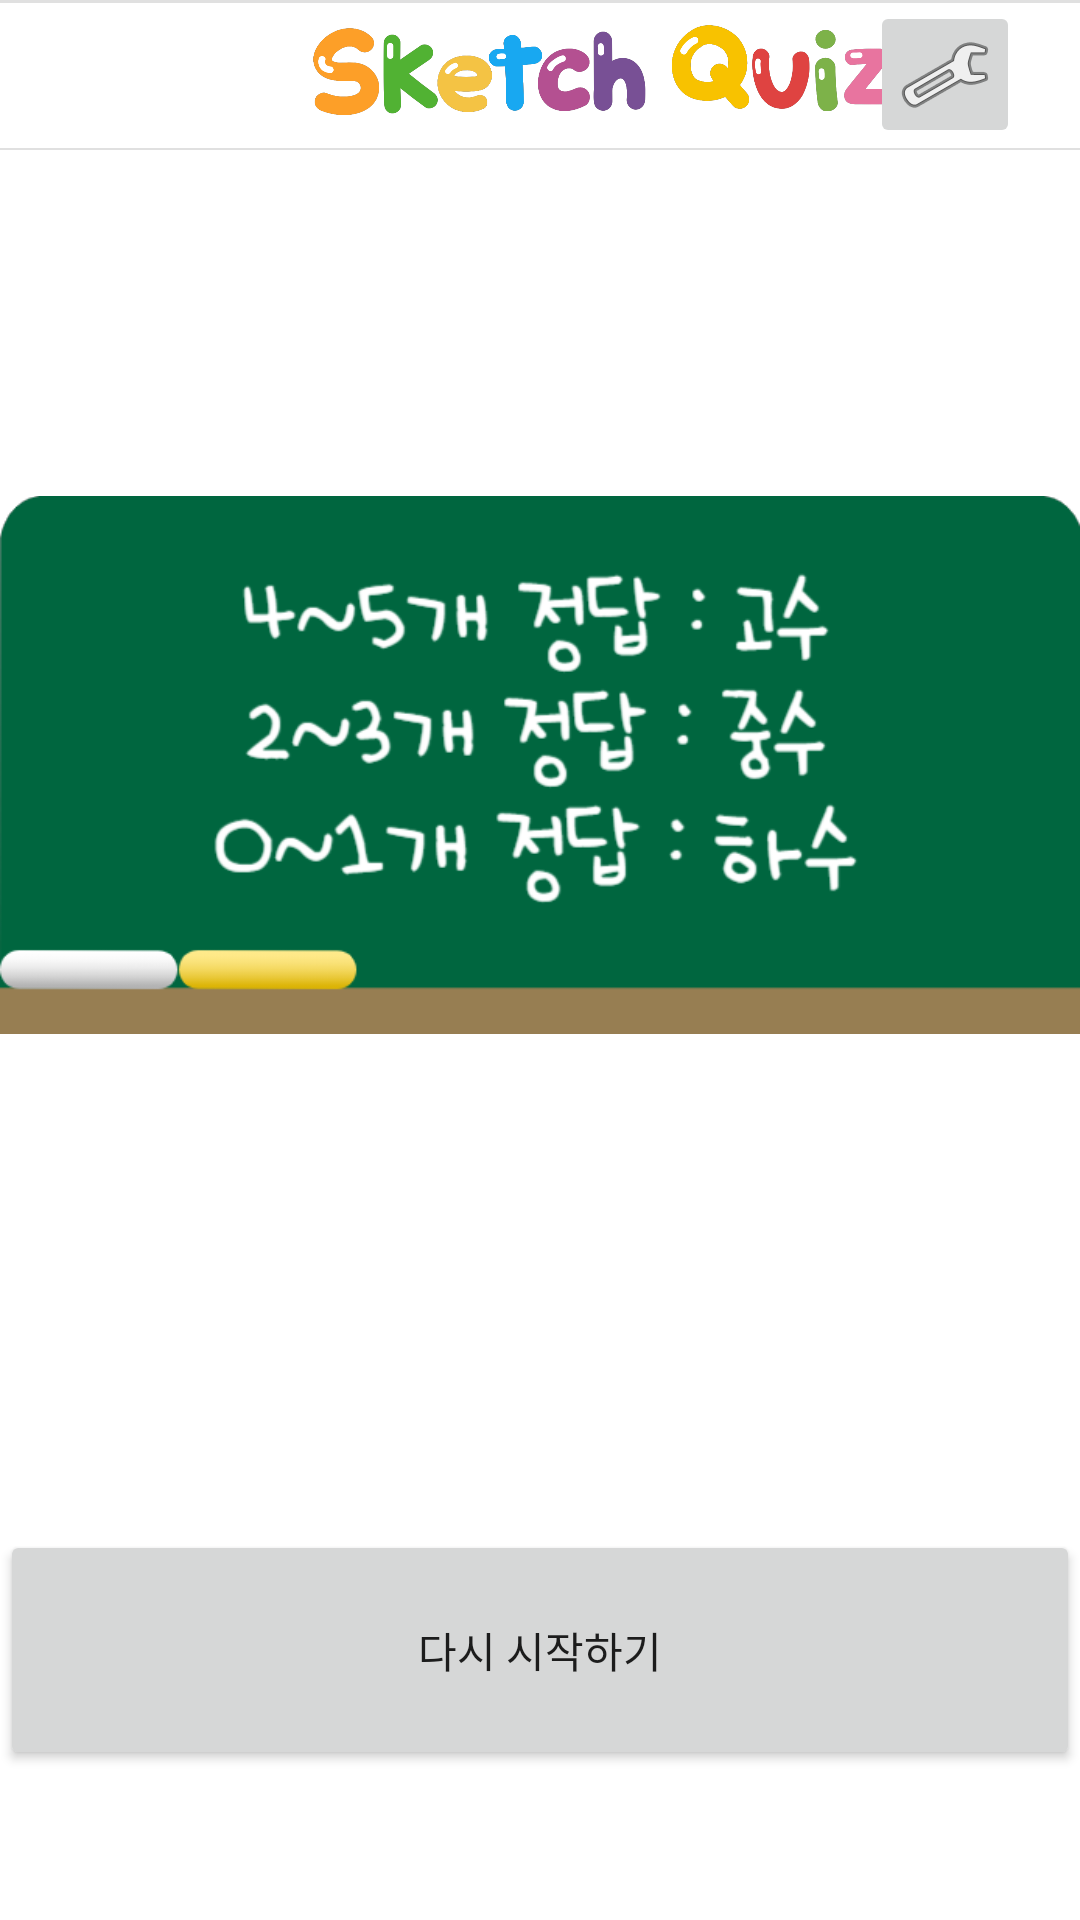

Where icons sit on this 1080w x 1920h app screen, as (x1, y1, x2, y2):
manage: (870, 1, 1020, 130)
